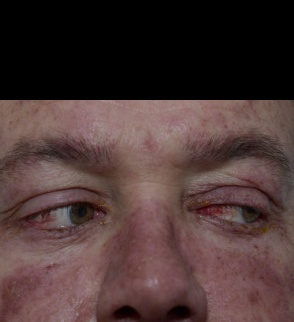SJS-TEN: (0, 226, 96, 322)
